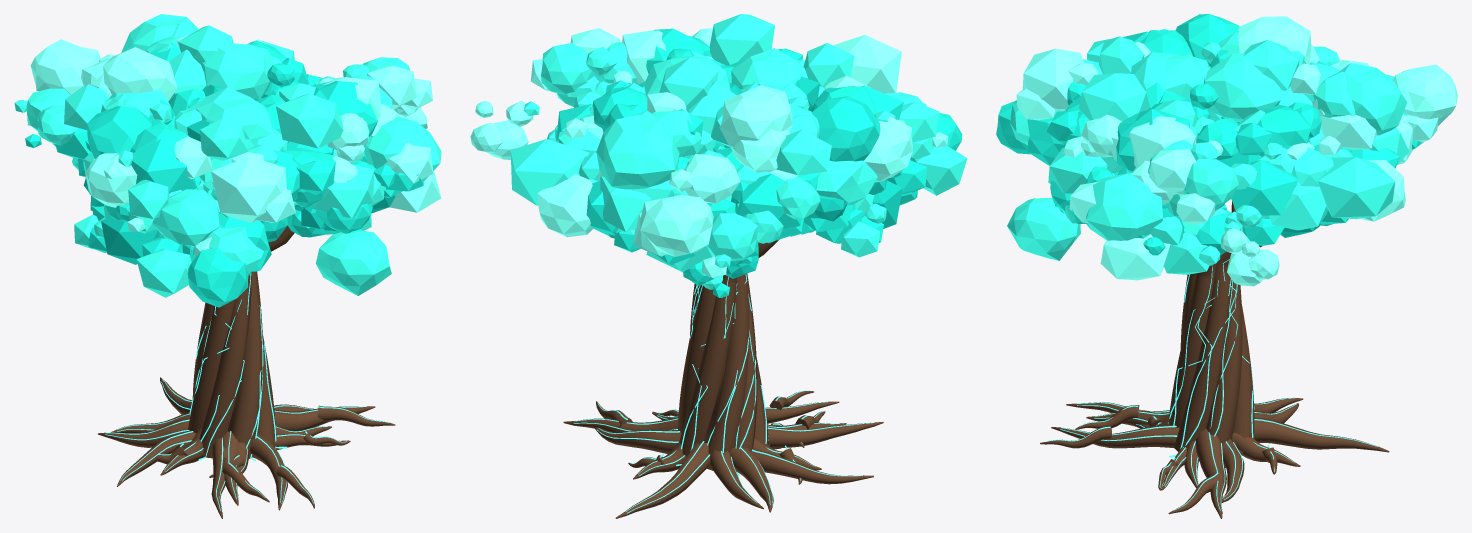
The model's file is arvore-central.glb.
3 renders of one model, left to right at view 1: azimuth 30°, elevation 25°; view 2: azimuth 150°, elevation 25°; view 3: azimuth 270°, elevation 25°, orthographic. The views are drawn at different scales.
Parts seen in each view (by area): view 1: copa_3, copa_4, copa_2, feixe_4, copa_1, feixe_5, feixe_3, raiz.007, feixe_6, raiz.001, raiz.017, raiz.008 (+8 smaller); view 2: copa_3, copa_4, copa_2, feixe_1, feixe_2, copa_1, feixe_0, raiz.005, feixe_3, raiz.008, raiz.011, raiz.002 (+6 smaller); view 3: copa_3, copa_4, copa_2, feixe_6, feixe_0, feixe_5, raiz.005, raiz.017, feixe_1, raiz.001, raiz.002, raiz.004 (+4 smaller).
Part boxes in pixels (bbox=[...]): copa_3: bbox=[14, 14, 441, 297]; copa_4: bbox=[27, 33, 441, 257]; copa_2: bbox=[25, 40, 423, 307]; feixe_4: bbox=[199, 226, 294, 458]; copa_1: bbox=[83, 84, 395, 264]; feixe_5: bbox=[231, 271, 262, 458]; feixe_3: bbox=[188, 300, 234, 433]; raiz.007: bbox=[98, 418, 189, 447]; feixe_6: bbox=[257, 334, 276, 446]; raiz.001: bbox=[274, 406, 375, 430]; raiz.017: bbox=[250, 433, 287, 510]; raiz.008: bbox=[117, 431, 196, 486]; copa_3: bbox=[510, 14, 967, 289]; copa_4: bbox=[470, 28, 948, 278]; copa_2: bbox=[556, 28, 962, 297]; feixe_1: bbox=[679, 275, 737, 456]; feixe_2: bbox=[706, 240, 778, 470]; copa_1: bbox=[715, 77, 902, 278]; feixe_0: bbox=[678, 285, 715, 432]; raiz.005: bbox=[615, 442, 710, 518]; feixe_3: bbox=[733, 274, 757, 451]; raiz.008: bbox=[751, 448, 873, 484]; raiz.011: bbox=[767, 422, 883, 448]; raiz.002: bbox=[594, 427, 681, 453]; copa_3: bbox=[1007, 28, 1409, 274]; copa_4: bbox=[1016, 16, 1457, 286]; copa_2: bbox=[996, 14, 1423, 255]; feixe_6: bbox=[1174, 245, 1262, 451]; feixe_0: bbox=[1206, 280, 1242, 444]; feixe_5: bbox=[1168, 263, 1216, 427]; raiz.005: bbox=[1254, 417, 1389, 452]; raiz.017: bbox=[1051, 425, 1179, 448]; feixe_1: bbox=[1233, 304, 1254, 452]; raiz.001: bbox=[1195, 428, 1226, 518]; raiz.002: bbox=[1222, 439, 1244, 502]; raiz.004: bbox=[1231, 432, 1300, 466].
Size of the model in its own units: 45.03 by 46.17 by 47.11.
